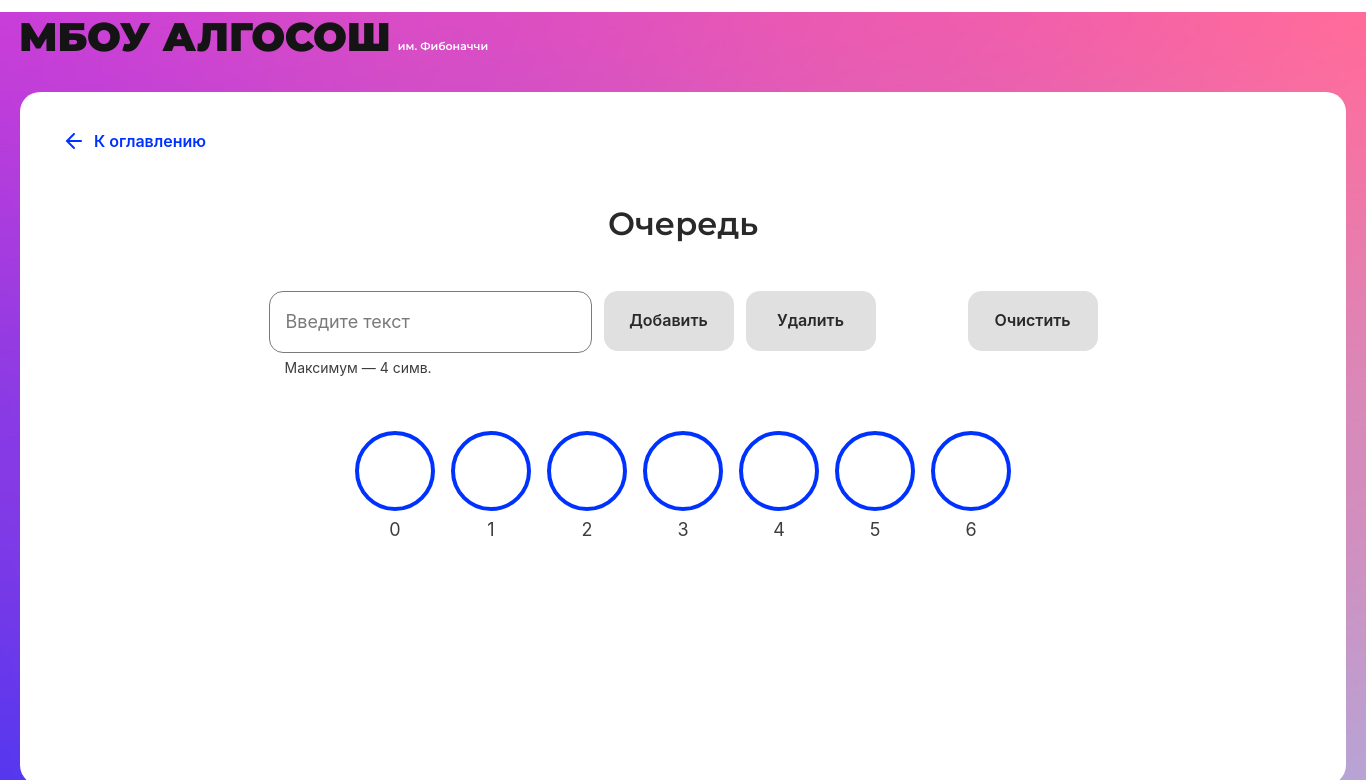
Scenario: queue test › enable submit button with input has text
Type "4" into the field with placeholder "Введите текст" at [431, 322], box [269,291,592,353]
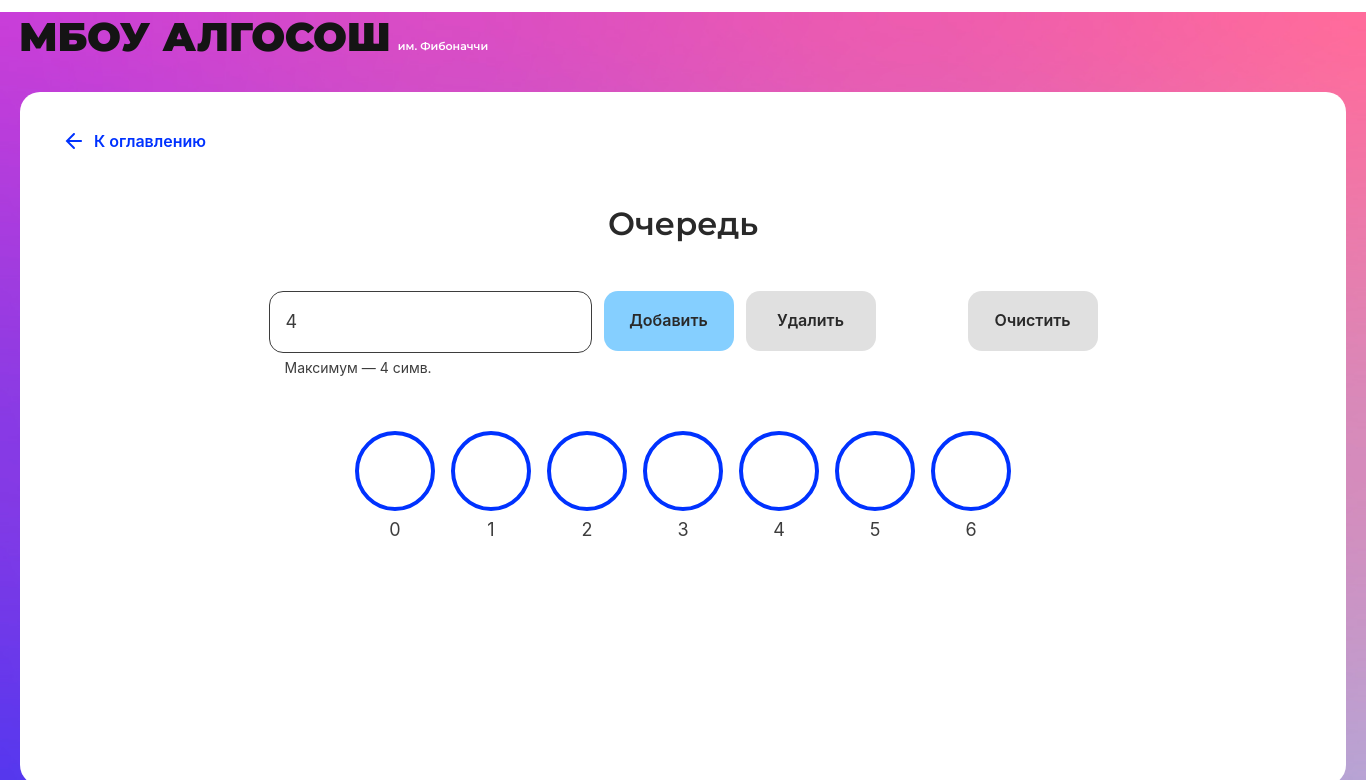
Expected: the button named "delete" is disabled, [746,291,876,351]
Expected: the button named "add" is enabled, [604,291,734,351]
